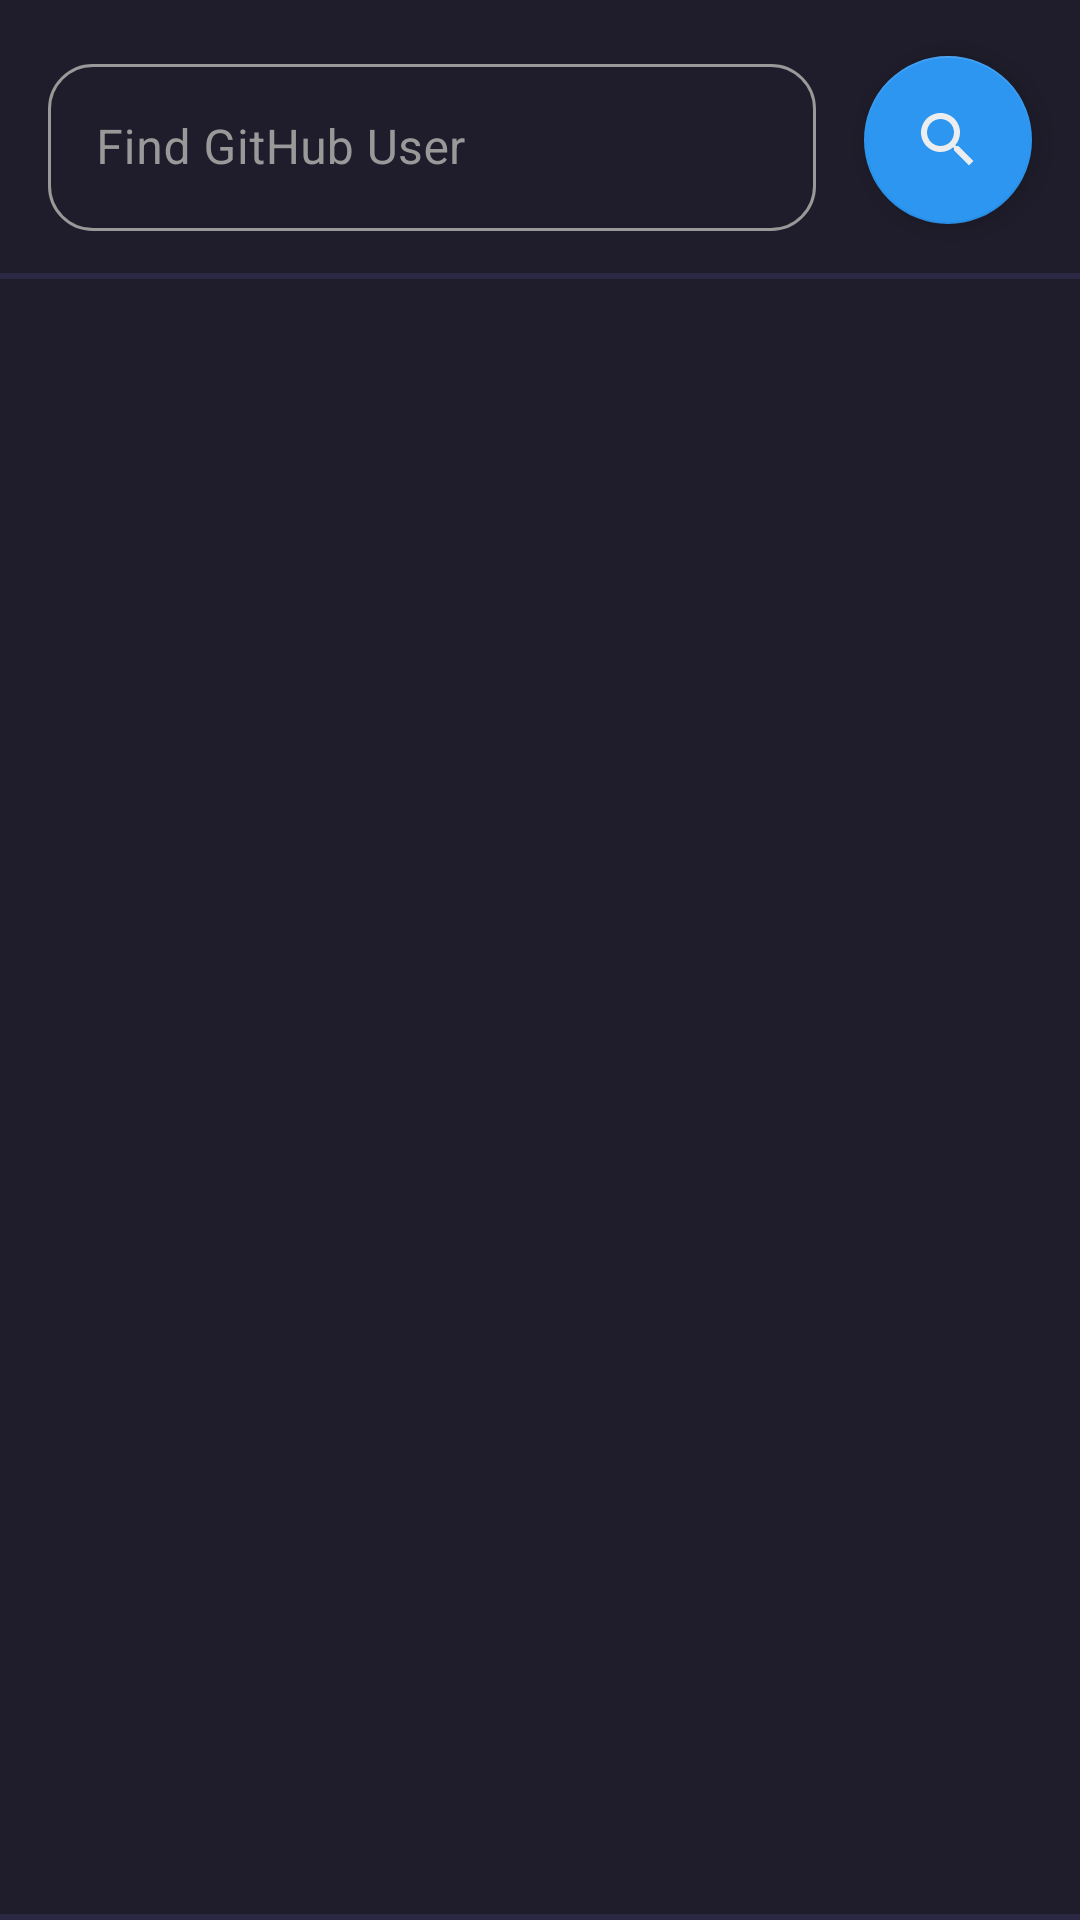

Screen size 1080*1920. Icon name, then its box in pixels as {"x1": x1, "y1": y1, "x2": x2, "y2": y2}:
Button to search user: {"x1": 864, "y1": 56, "x2": 1032, "y2": 224}
